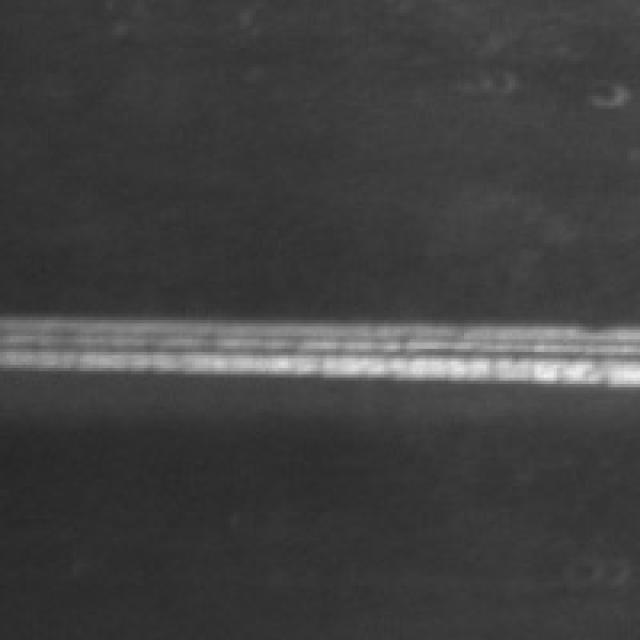scratches: (0, 284, 634, 394)
